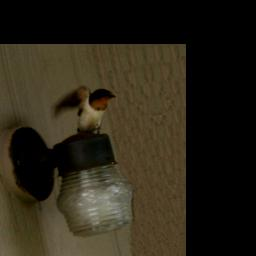Swallow: (47, 78, 123, 142)
